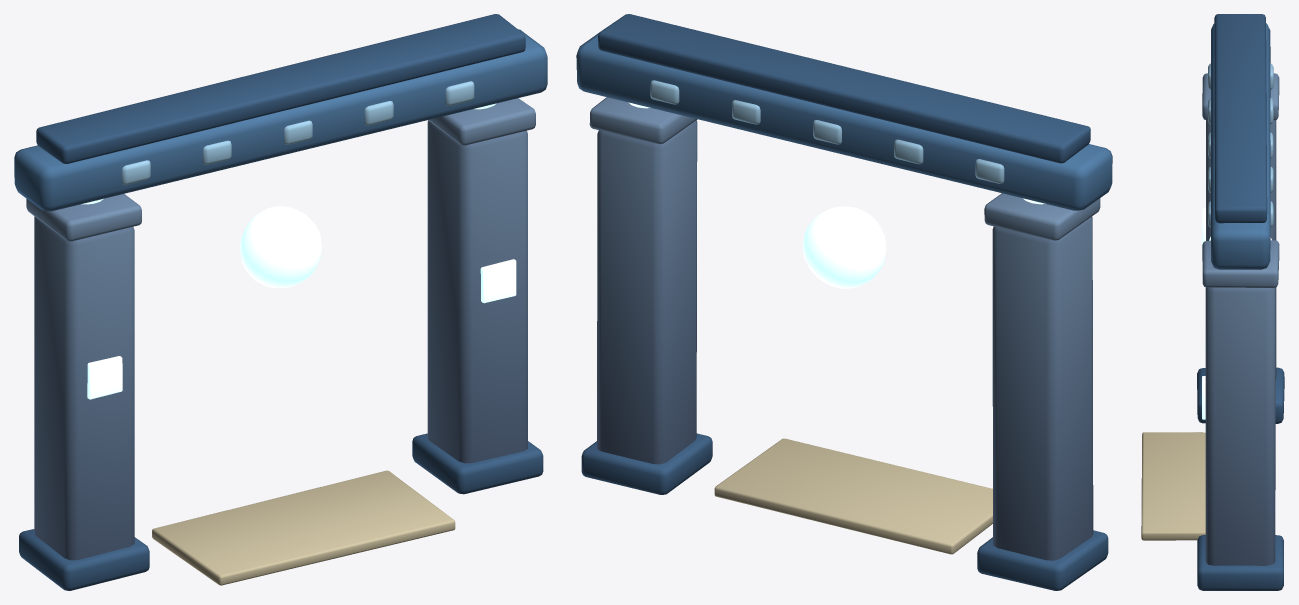
The picture shows the model from 3 angles, left to right: view 1: azimuth 30°, elevation 25°; view 2: azimuth 150°, elevation 25°; view 3: azimuth 270°, elevation 25°; orthographic projection. The views are drawn at different scales.
Visible parts, largest first — view 1: gate_f0973598; view 2: gate_f0973598; view 3: gate_f0973598.
Boxes of the visible parts, x1=… form: gate_f0973598: x1=14, y1=14, x2=547, y2=590; gate_f0973598: x1=576, y1=14, x2=1112, y2=590; gate_f0973598: x1=1141, y1=14, x2=1284, y2=590.
Size of the model in its own units: 5.15 by 4.25 by 1.44.
